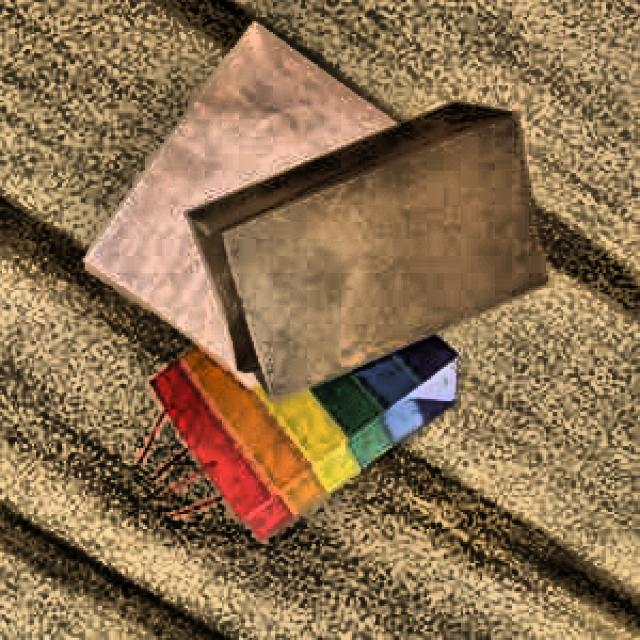Paper-bag: (76, 9, 406, 403), (180, 80, 556, 399), (133, 281, 463, 560)
